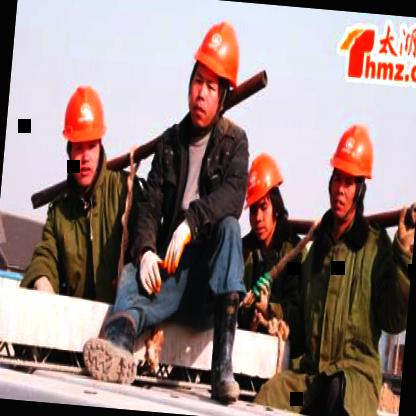helmet: (183, 12, 250, 145), (323, 115, 381, 228), (57, 78, 112, 192), (237, 146, 292, 248)
